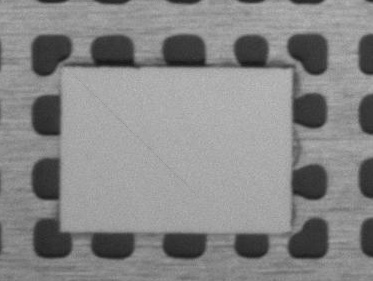DIE_CRACK: (100, 57, 264, 148)
